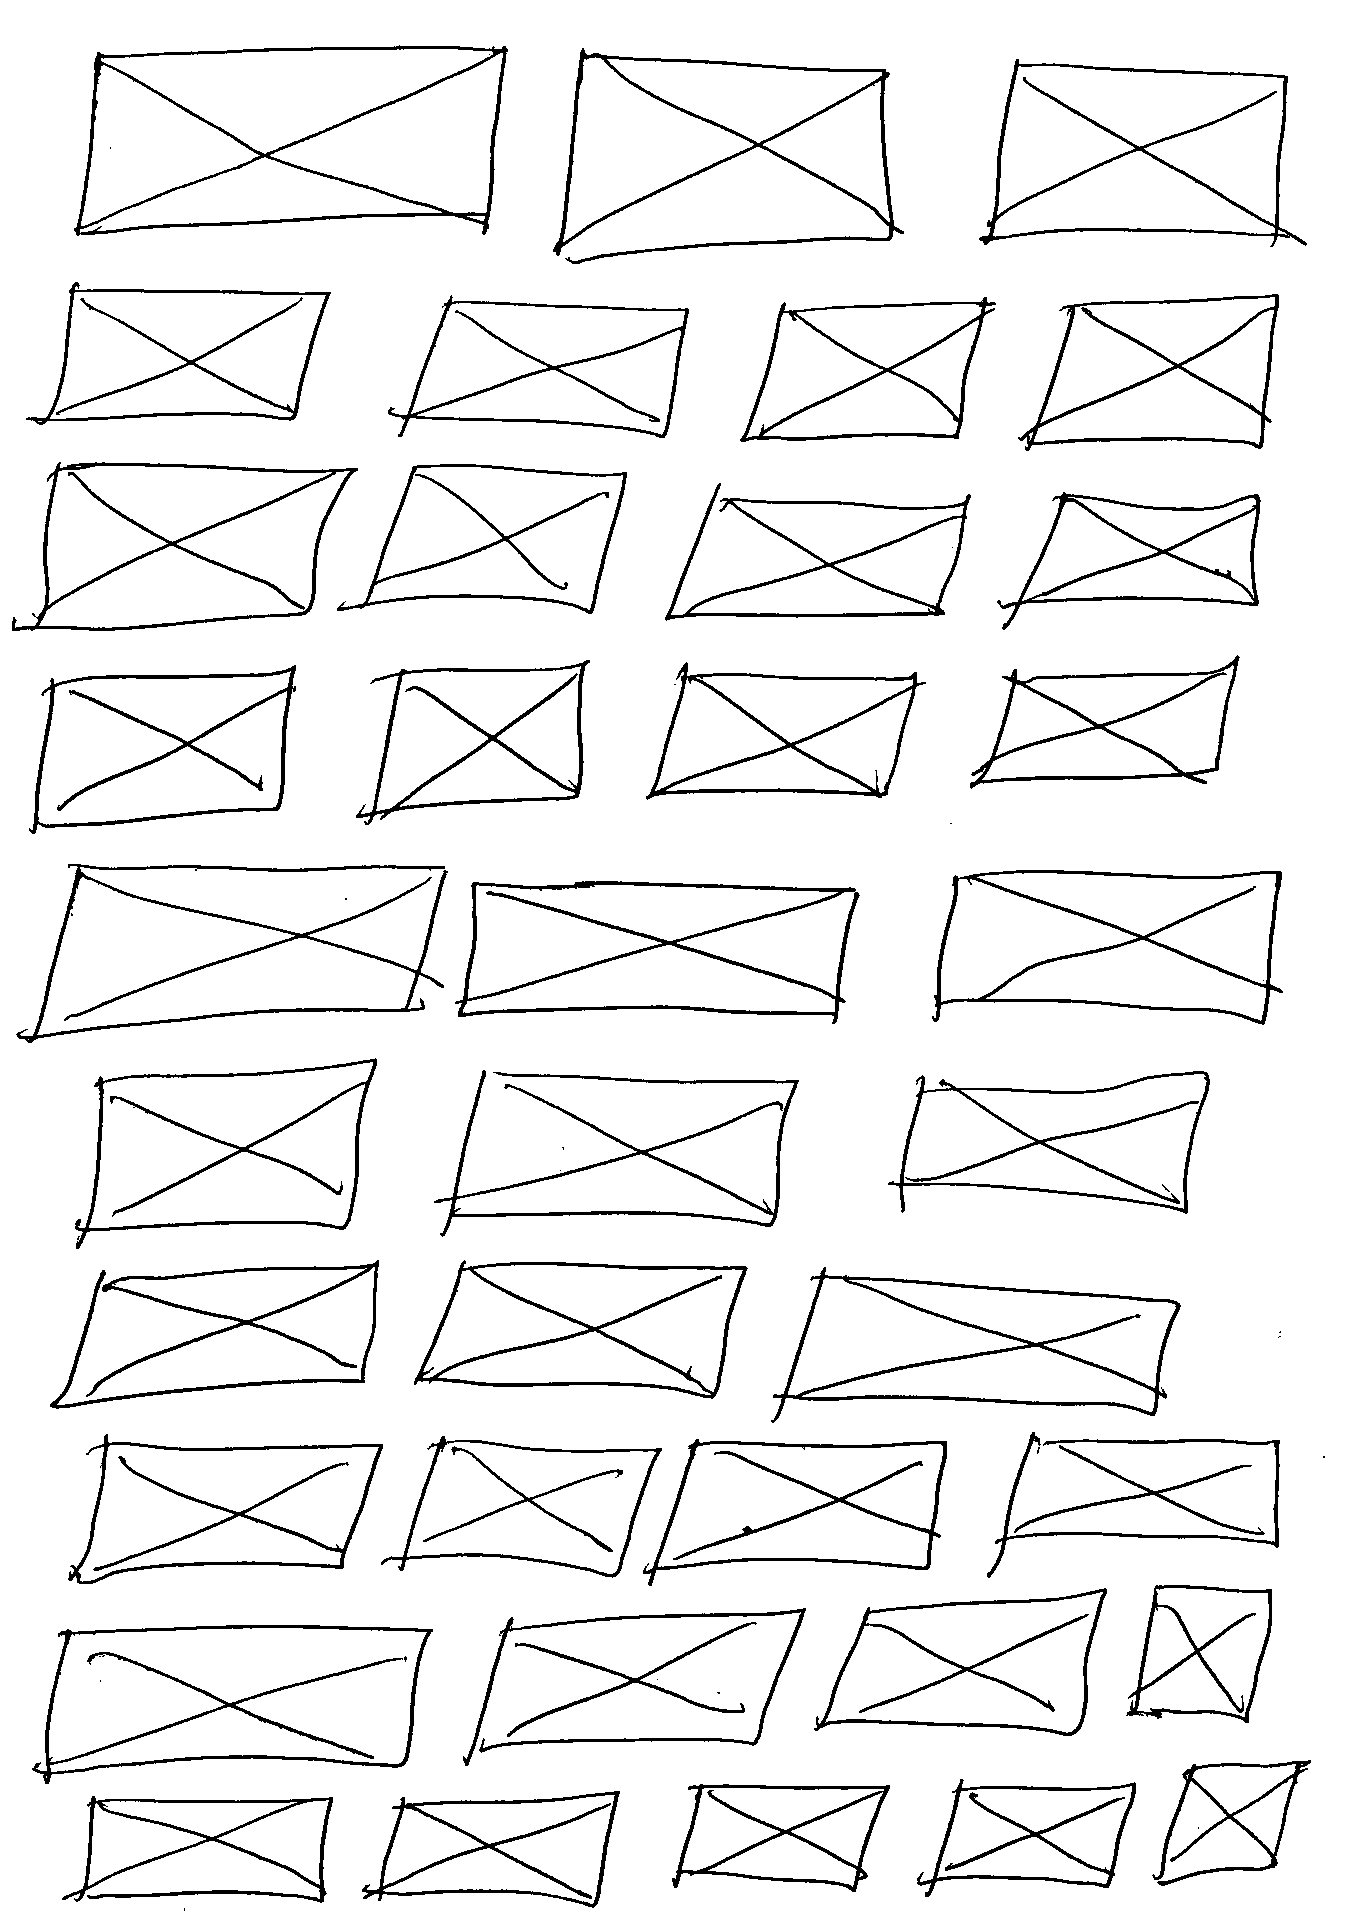Image: (72, 44, 509, 238), (21, 861, 455, 1044), (553, 50, 897, 265), (38, 1619, 432, 1782), (13, 458, 361, 636), (982, 58, 1294, 251), (442, 1068, 806, 1232), (71, 1053, 381, 1242), (778, 1272, 1183, 1416), (455, 875, 862, 1019), (461, 1604, 812, 1768), (931, 866, 1288, 1022), (46, 1263, 381, 1411), (412, 1260, 751, 1405), (888, 1066, 1212, 1215), (64, 1437, 381, 1586), (819, 1581, 1112, 1737), (30, 664, 299, 834), (384, 297, 693, 444), (31, 285, 333, 427), (1019, 291, 1282, 454), (664, 491, 985, 621), (356, 464, 633, 611), (659, 1437, 951, 1575), (359, 656, 591, 827), (736, 294, 992, 447), (642, 665, 921, 804), (967, 656, 1240, 794), (395, 1436, 650, 1579), (996, 1436, 1285, 1551), (1010, 489, 1267, 612), (64, 1793, 337, 1904), (371, 1789, 622, 1909), (925, 1779, 1141, 1894), (670, 1782, 894, 1887), (1127, 1582, 1279, 1723), (1156, 1757, 1311, 1890)
